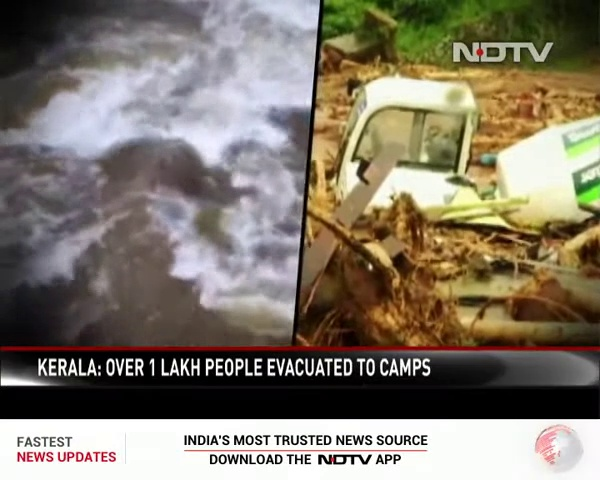house: (324, 10, 400, 65)
vehicle: (337, 93, 599, 228), (448, 284, 600, 347)
